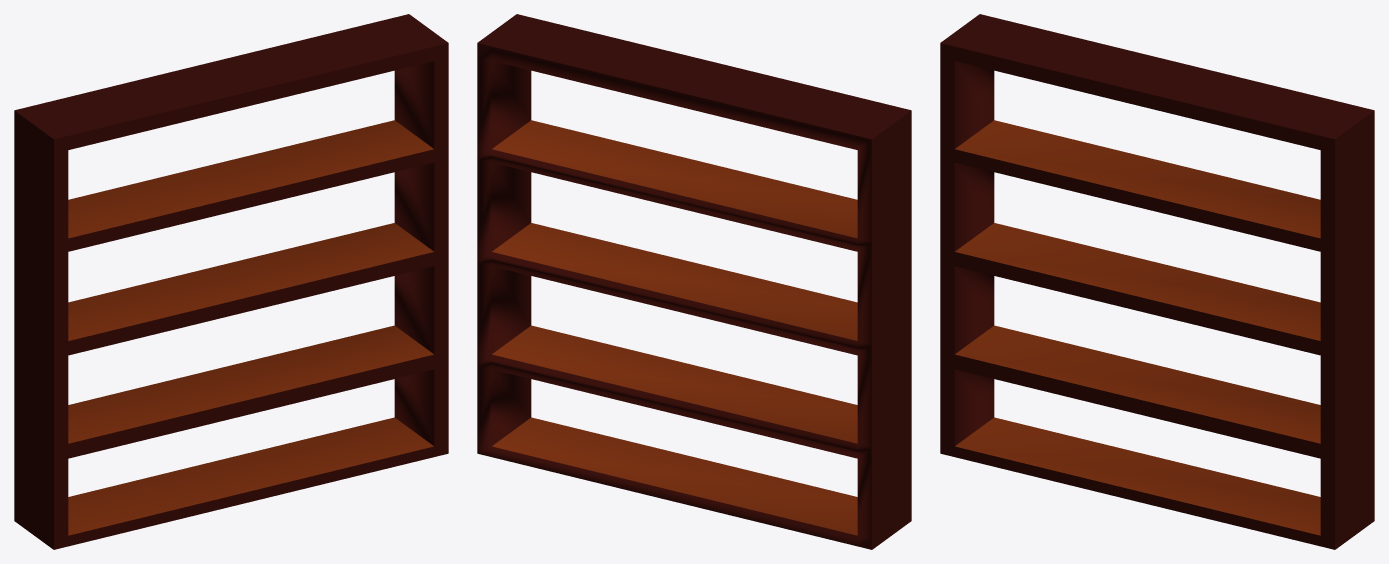
File: bookcase.fbx
3 renders of one model, left to right at view 1: azimuth 30°, elevation 25°; view 2: azimuth 150°, elevation 25°; view 3: azimuth 330°, elevation 25°, orthographic.
Visible parts, largest first — view 1: pCube1; view 2: pCube1; view 3: pCube1.
Boxes of the visible parts, x1,y1,x2,y2 form: pCube1: (14, 14, 448, 549); pCube1: (477, 14, 911, 549); pCube1: (940, 14, 1374, 549).
Size of the model in its own units: 36.05 by 35.81 by 6.27.
